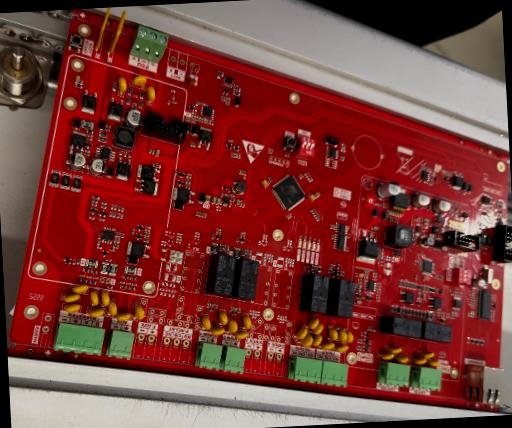var: (105, 10, 128, 57), (93, 8, 113, 53), (293, 327, 308, 341), (298, 334, 312, 348), (132, 75, 147, 88), (226, 319, 238, 334), (114, 312, 132, 322), (63, 294, 80, 304), (117, 76, 127, 93), (310, 323, 323, 336), (132, 306, 144, 320), (305, 318, 319, 330), (310, 334, 322, 348), (384, 346, 402, 355), (146, 85, 155, 103), (100, 291, 110, 307), (72, 284, 88, 294), (242, 314, 252, 330), (64, 304, 80, 314), (88, 308, 104, 318), (332, 344, 348, 354), (410, 356, 426, 366), (327, 328, 338, 342), (89, 291, 99, 306), (201, 315, 211, 330), (210, 326, 225, 336), (233, 330, 248, 340), (378, 352, 394, 361), (218, 312, 228, 326), (107, 302, 117, 316), (319, 342, 334, 351), (344, 331, 354, 344), (337, 330, 347, 343), (417, 352, 433, 360), (394, 355, 408, 364), (427, 359, 439, 368)
